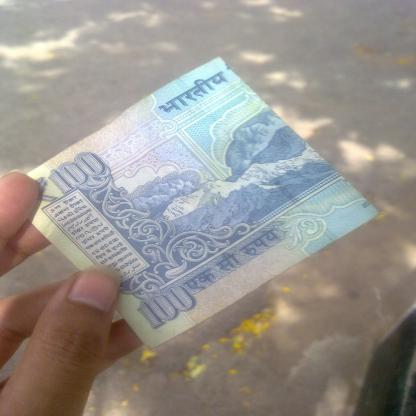Old100Back: (20, 53, 382, 352)
